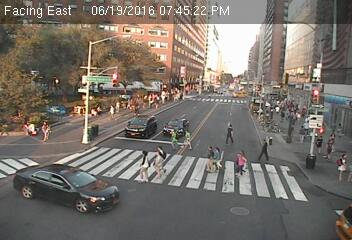neg: (27, 63, 46, 90), (7, 103, 26, 128), (201, 45, 220, 70), (108, 59, 125, 81), (62, 45, 78, 66), (132, 108, 147, 128), (143, 44, 158, 64), (234, 56, 249, 76), (90, 120, 105, 139), (288, 177, 303, 196), (86, 69, 100, 88), (169, 51, 183, 70), (210, 88, 224, 106), (278, 57, 291, 75), (311, 49, 324, 67), (50, 185, 63, 202), (23, 151, 35, 168), (95, 195, 107, 212), (236, 199, 248, 215), (318, 85, 330, 101), (303, 151, 315, 166), (163, 204, 174, 218)
pos: (131, 148, 156, 181), (324, 146, 349, 179), (149, 142, 173, 174), (254, 134, 276, 163), (232, 146, 253, 174), (198, 145, 217, 170), (167, 127, 184, 149), (223, 120, 240, 142), (180, 127, 196, 149), (39, 118, 55, 139), (313, 132, 329, 152)
